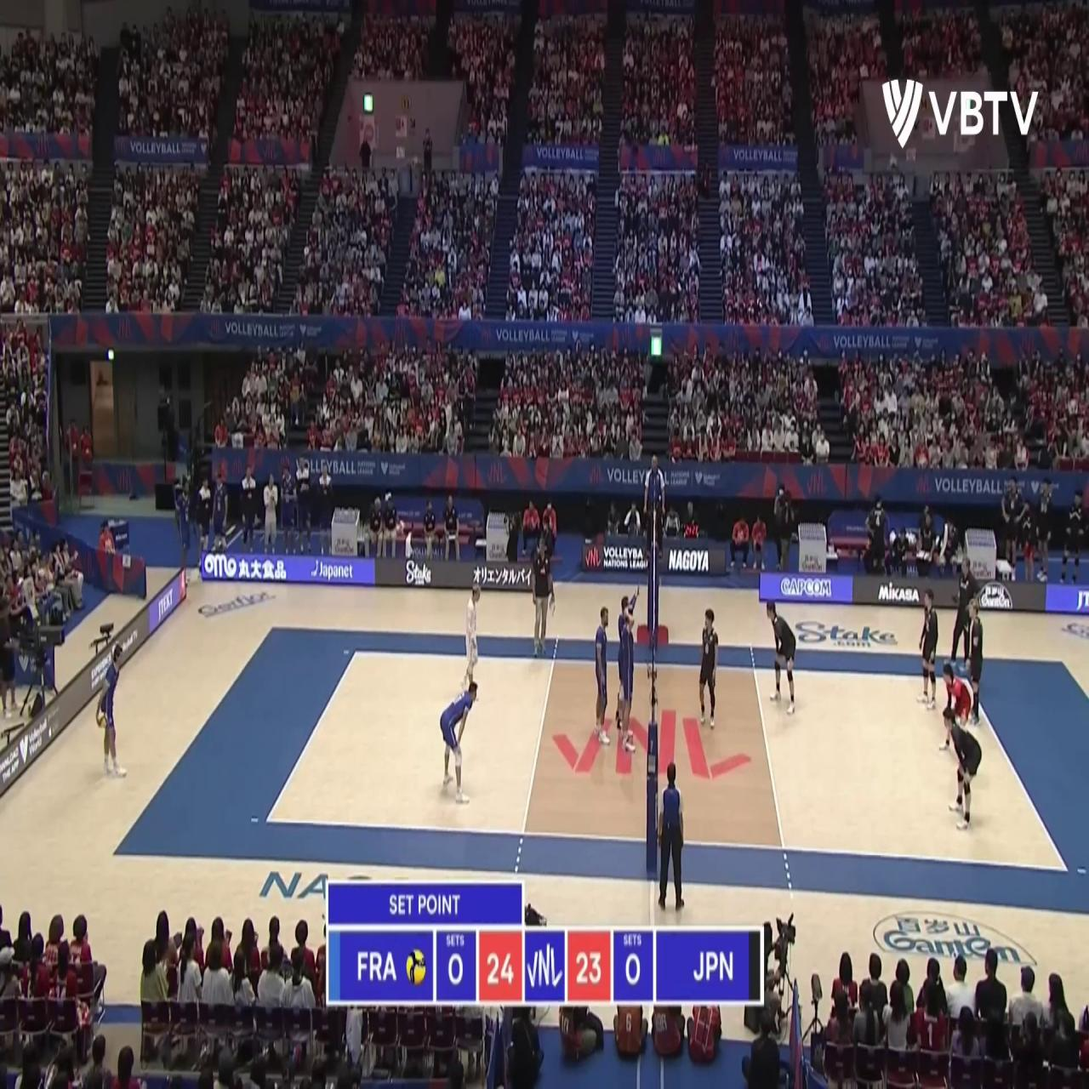ball: (98, 711, 108, 730)
